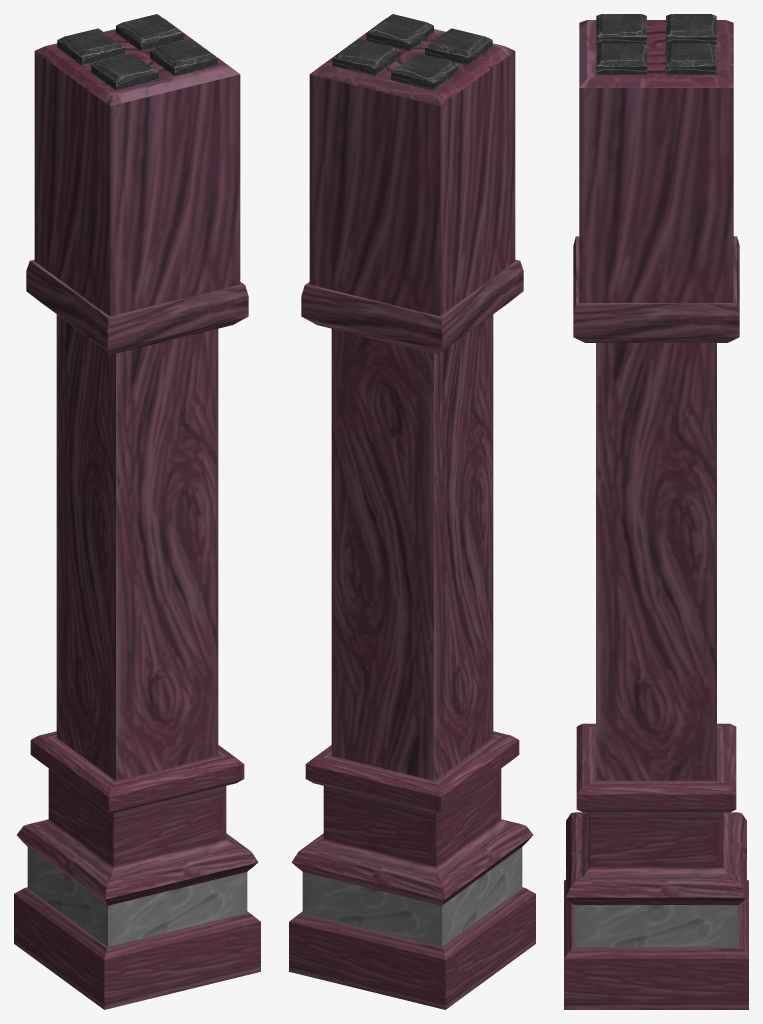
The model's file is MOD_WallColumn.fbx.
The picture shows the model from 3 angles, left to right: view 1: azimuth 30°, elevation 25°; view 2: azimuth 150°, elevation 25°; view 3: azimuth 270°, elevation 25°; orthographic projection. The views are drawn at different scales.
Parts seen in each view (by area): view 1: MOD_WallColumn; view 2: MOD_WallColumn; view 3: MOD_WallColumn.
Part boxes in pixels (x1=…): MOD_WallColumn: x1=14, y1=14, x2=260, y2=1009; MOD_WallColumn: x1=289, y1=14, x2=535, y2=1009; MOD_WallColumn: x1=564, y1=14, x2=748, y2=1009.
Size of the model in its own units: 63.64 by 355 by 63.64.
1 material, 1 textured.
